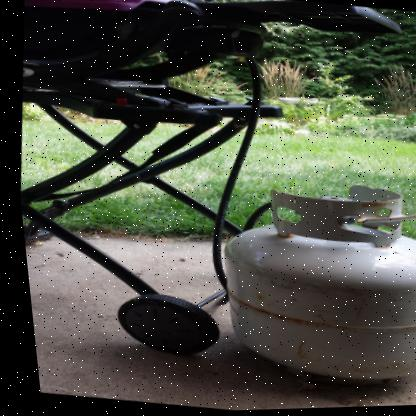gas-tank: (180, 153, 415, 408)
